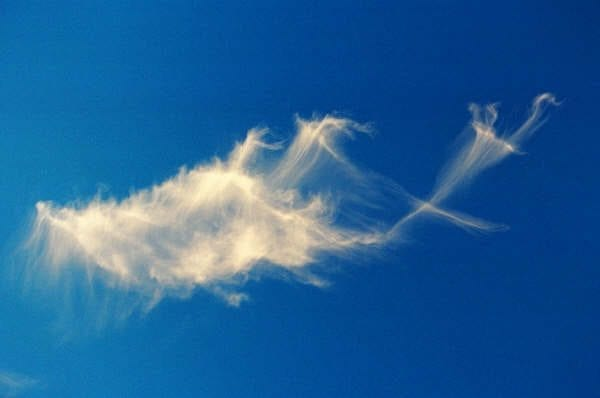Cirrus: (24, 70, 568, 332)
